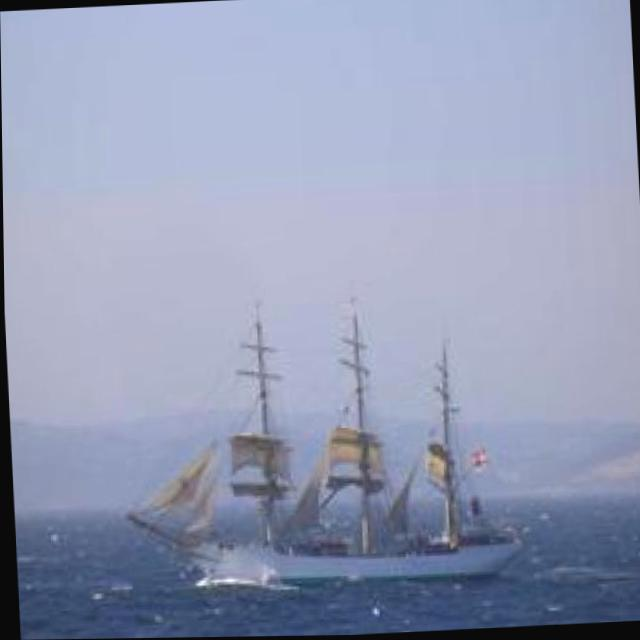ship2: (125, 300, 515, 585)
